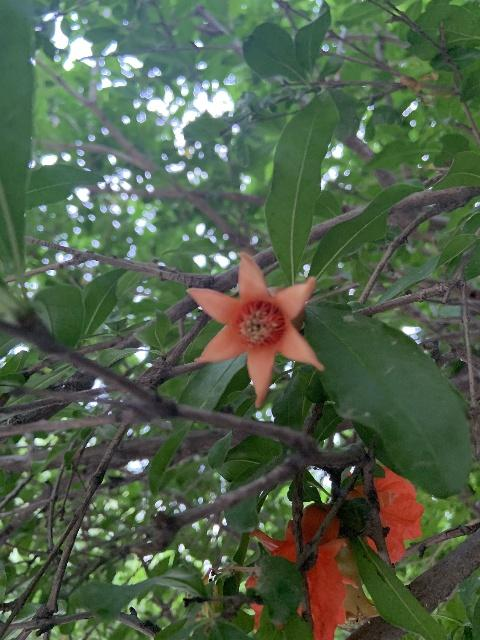early-fruit: (187, 252, 323, 407)
flower: (245, 503, 356, 639), (344, 461, 424, 563)
